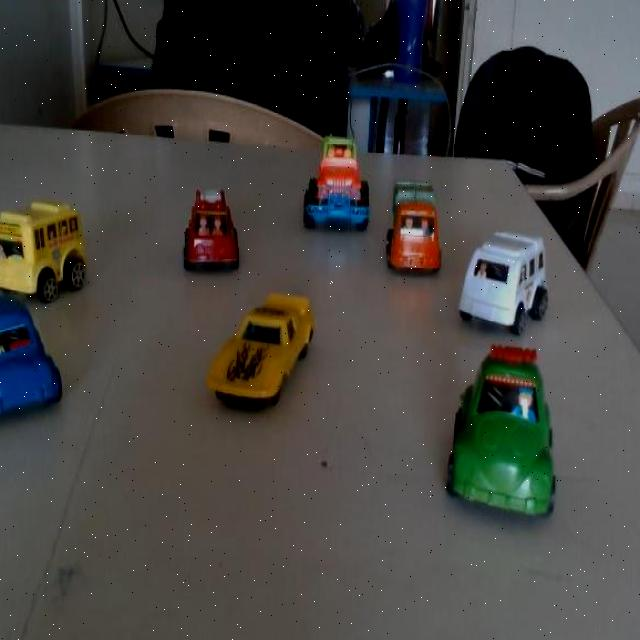car: (400, 309, 640, 597), (185, 278, 354, 434), (447, 213, 567, 362), (287, 122, 376, 236), (7, 204, 98, 308), (381, 164, 453, 292), (0, 298, 56, 423), (180, 183, 250, 282)
